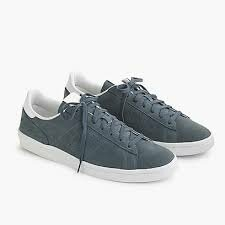Sneakers: (16, 87, 182, 184), (62, 67, 218, 159)
